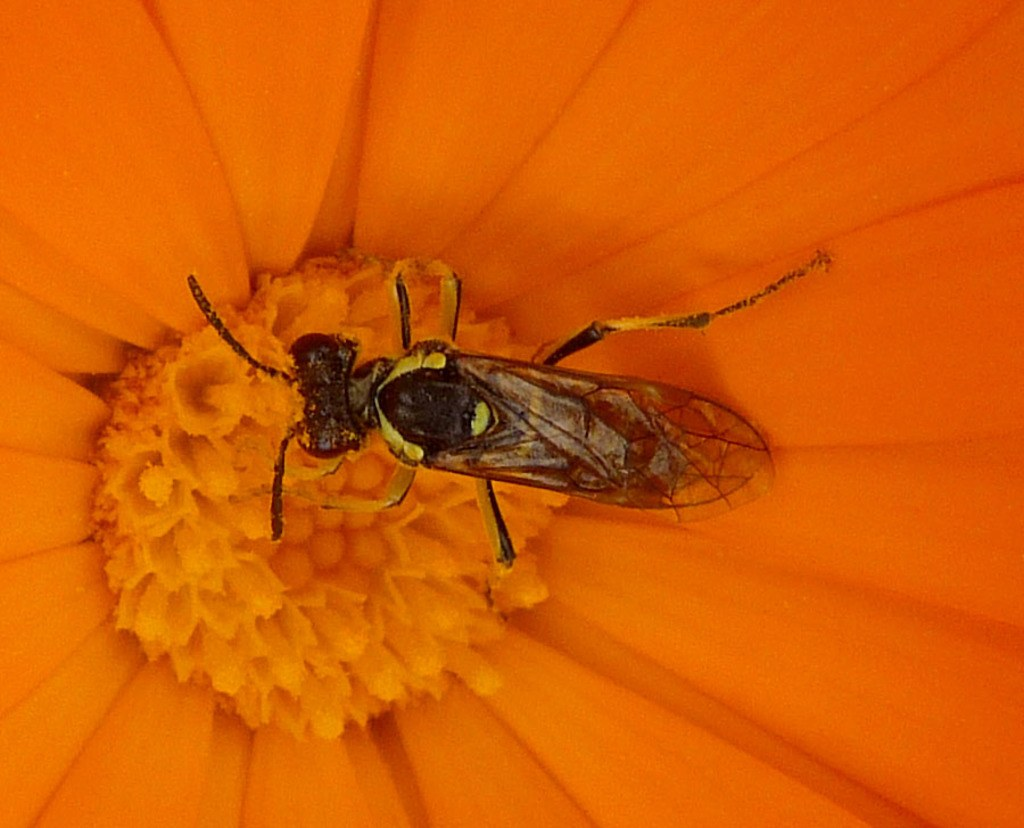bee: (109, 264, 847, 591)
insect: (0, 0, 1023, 827)
